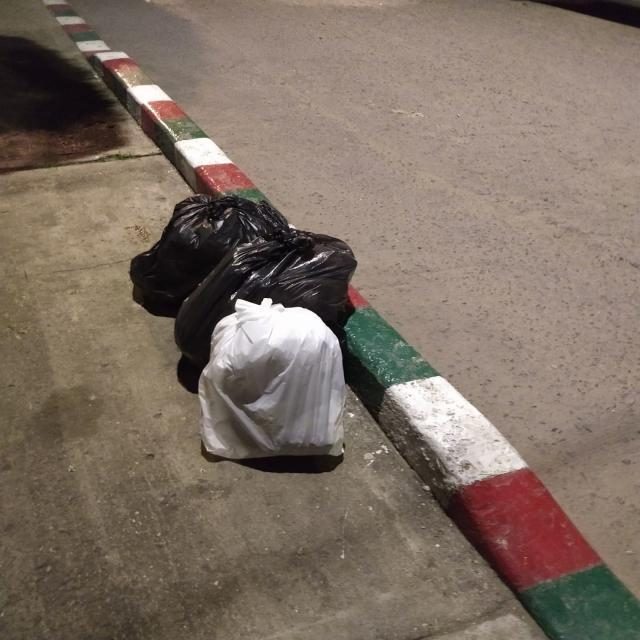Trashbag: (205, 232, 362, 332), (129, 178, 241, 314)
